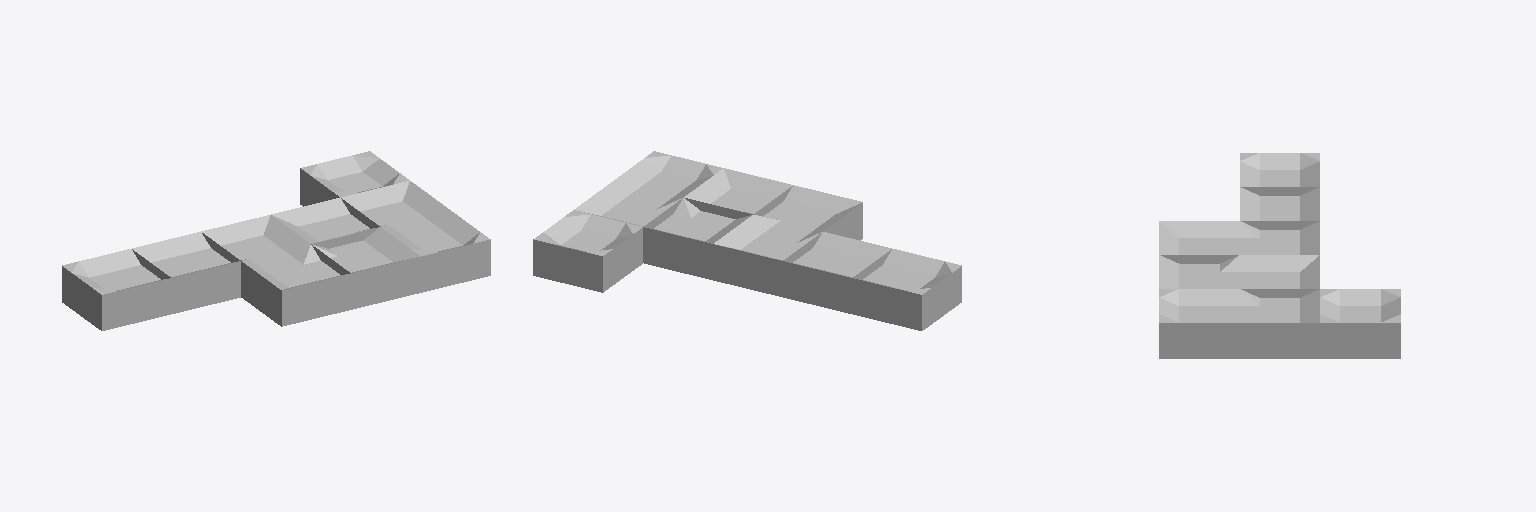
File: 47f_path.obj
3 views of the same model, side by side, from view 1: azimuth 30°, elevation 25°; view 2: azimuth 150°, elevation 25°; view 3: azimuth 270°, elevation 25° (orthographic).
Parts seen in each view (by area): view 1: foil.ending.0.1_ending.487, foil.corner.2.0_corner.1203, foil.through.1.1_through.257, foil.corner.3.0_corner.1205, foil.ending.4.0_ending.488, foil.hole.4.2_Cube.245, foil.corner.4.1_corner.1207, foil.corner.2.1_corner.1204, foil.corner.3.1_corner.1206; view 2: foil.hole.4.2_Cube.245, foil.ending.0.1_ending.487, foil.through.1.1_through.257, foil.corner.2.1_corner.1204, foil.corner.3.1_corner.1206, foil.corner.2.0_corner.1203, foil.ending.4.0_ending.488, foil.corner.3.0_corner.1205, foil.corner.4.1_corner.1207; view 3: foil.ending.4.0_ending.488, foil.hole.4.2_Cube.245, foil.corner.4.1_corner.1207, foil.corner.2.0_corner.1203, foil.through.1.1_through.257, foil.ending.0.1_ending.487, foil.corner.3.1_corner.1206, foil.corner.2.1_corner.1204, foil.corner.3.0_corner.1205.
Part boxes in pixels (x1,y1,x2,y2): foil.ending.0.1_ending.487: (62, 249, 171, 330); foil.corner.2.0_corner.1203: (241, 244, 350, 326); foil.through.1.1_through.257: (132, 232, 240, 313); foil.corner.3.0_corner.1205: (312, 227, 420, 309); foil.ending.4.0_ending.488: (381, 210, 490, 292); foil.hole.4.2_Cube.245: (300, 151, 409, 206); foil.corner.4.1_corner.1207: (341, 181, 449, 231); foil.corner.2.1_corner.1204: (201, 215, 309, 265); foil.corner.3.1_corner.1206: (271, 198, 379, 248); foil.hole.4.2_Cube.245: (533, 210, 642, 292); foil.ending.0.1_ending.487: (852, 249, 961, 330); foil.through.1.1_through.257: (783, 232, 891, 313); foil.corner.2.1_corner.1204: (713, 215, 821, 296); foil.corner.3.1_corner.1206: (643, 198, 751, 279); foil.corner.2.0_corner.1203: (753, 185, 862, 240); foil.ending.4.0_ending.488: (614, 151, 722, 201); foil.corner.3.0_corner.1205: (684, 168, 792, 218); foil.corner.4.1_corner.1207: (574, 181, 682, 228); foil.ending.4.0_ending.488: (1159, 289, 1239, 358); foil.hole.4.2_Cube.245: (1320, 289, 1400, 358); foil.corner.4.1_corner.1207: (1240, 289, 1319, 358); foil.corner.2.0_corner.1203: (1159, 221, 1239, 263); foil.through.1.1_through.257: (1240, 187, 1319, 229); foil.ending.0.1_ending.487: (1240, 153, 1319, 186); foil.corner.3.1_corner.1206: (1240, 255, 1319, 288); foil.corner.2.1_corner.1204: (1240, 221, 1319, 254); foil.corner.3.0_corner.1205: (1159, 255, 1239, 288).
Bounding box in the file's own units: 10 × 1 × 6.